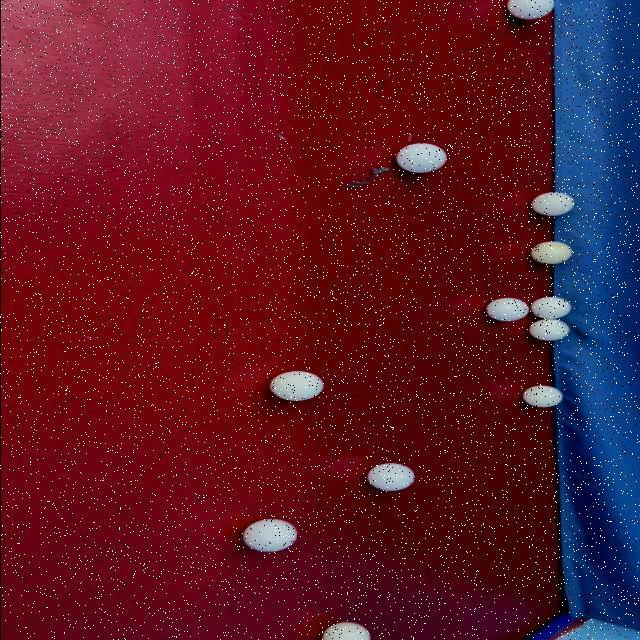ping-pong-ball: (260, 362, 338, 408), (231, 515, 305, 557), (516, 236, 584, 270), (356, 461, 424, 495), (390, 141, 450, 175), (306, 618, 390, 640), (525, 188, 583, 219), (517, 381, 569, 412), (504, 0, 560, 26), (478, 296, 530, 324), (521, 318, 577, 343)
